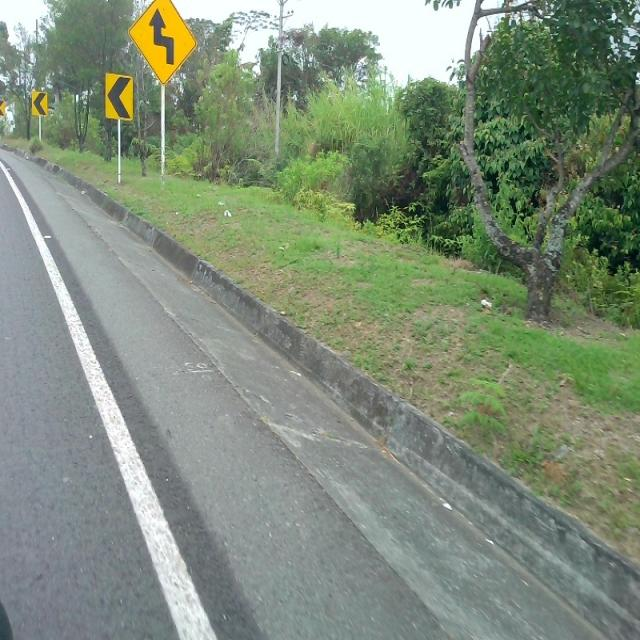DITCH: (2, 143, 638, 638)
